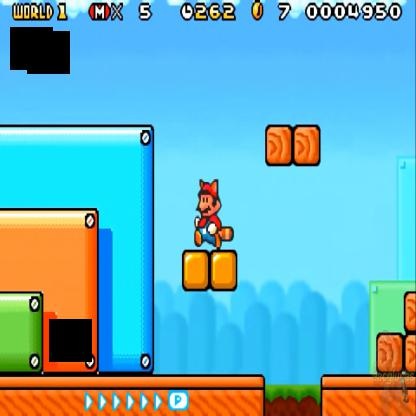Mario: (192, 177, 235, 248)
moneda: (249, 0, 265, 22)
